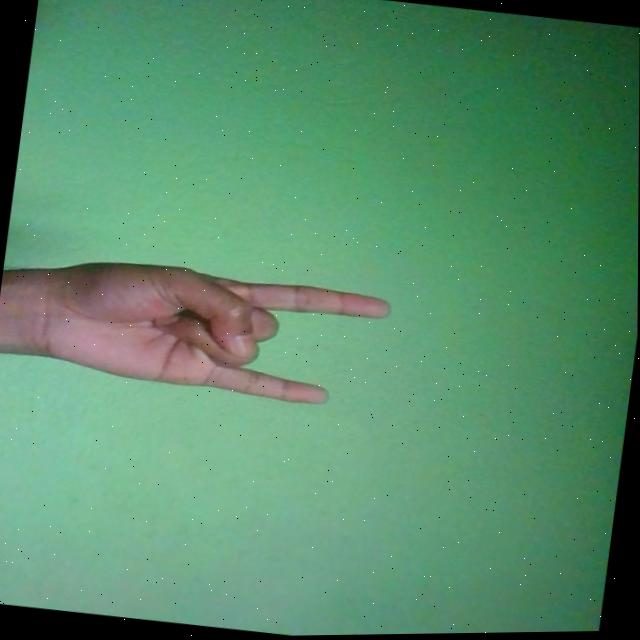Rock On: (20, 247, 393, 417)
